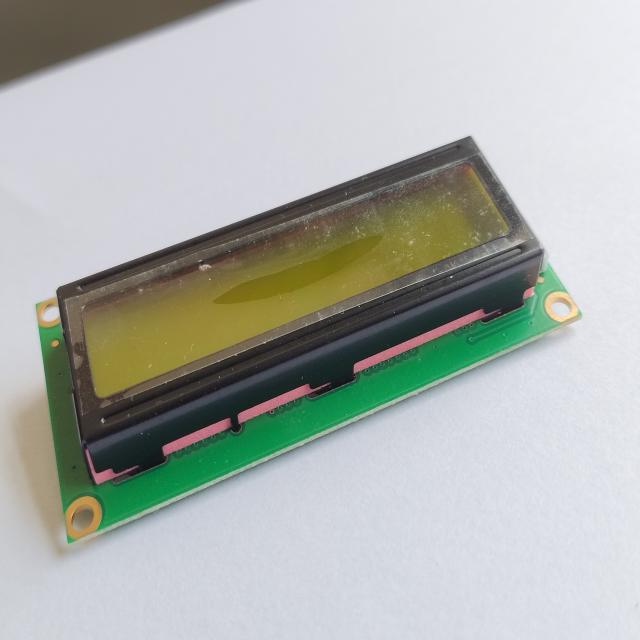lcd: (25, 132, 589, 558)
